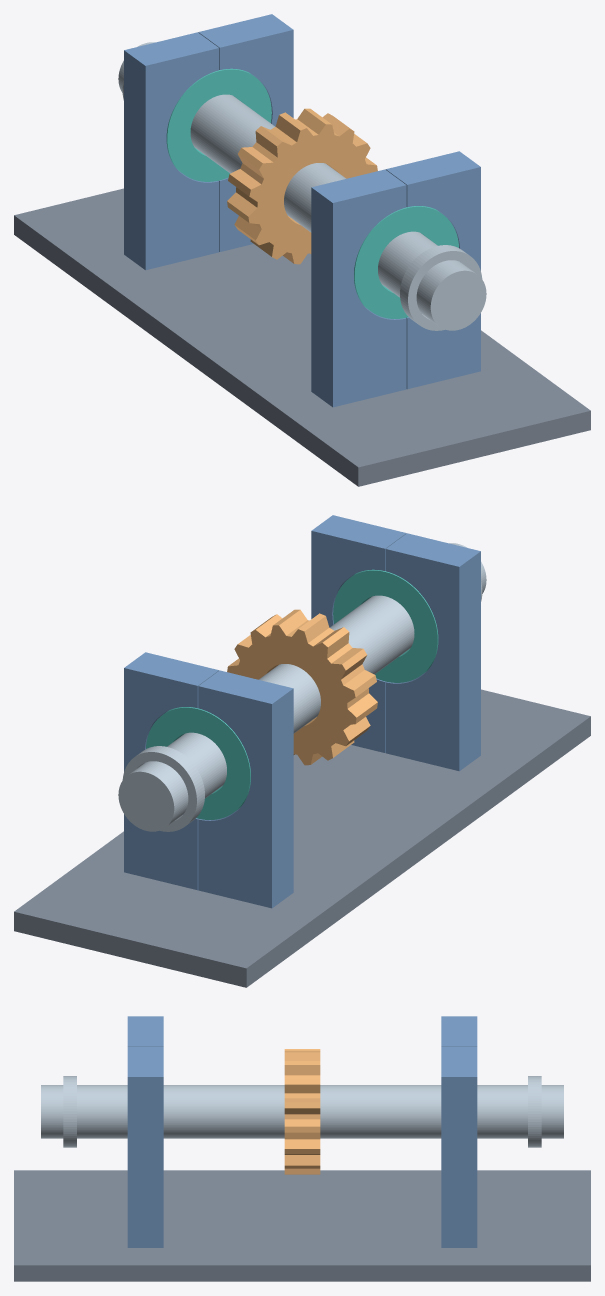
The model's file is assembly.glb.
3 renders of one model, top to bottom at view 1: azimuth 30°, elevation 25°; view 2: azimuth 150°, elevation 25°; view 3: azimuth 270°, elevation 25°, orthographic. The views are drawn at different scales.
Parts seen in each view (by area): view 1: base, rear_housing_left, front_housing_left, shaft, gear, rear_housing_right, front_housing_right, front_bearing, rear_bearing, rear_retainer; view 2: base, front_housing_left, rear_housing_left, shaft, gear, front_housing_right, rear_housing_right, rear_bearing, front_bearing, front_retainer; view 3: base, shaft, front_housing_right, rear_housing_right, gear, front_housing_left, rear_housing_left, front_retainer, rear_retainer.
Boxes of the visible parts, x1=… form: base: x1=14, y1=188, x2=590, y2=486; rear_housing_left: x1=311, y1=169, x2=406, y2=407; front_housing_left: x1=124, y1=32, x2=219, y2=270; shaft: x1=118, y1=42, x2=486, y2=330; gear: x1=227, y1=108, x2=377, y2=264; rear_housing_right: x1=385, y1=151, x2=480, y2=389; front_housing_right: x1=198, y1=14, x2=293, y2=251; front_bearing: x1=166, y1=68, x2=271, y2=181; rear_bearing: x1=354, y1=206, x2=458, y2=318; rear_retainer: x1=400, y1=245, x2=482, y2=330; base: x1=14, y1=689, x2=590, y2=987; front_housing_left: x1=198, y1=670, x2=293, y2=908; rear_housing_left: x1=385, y1=533, x2=480, y2=771; shaft: x1=118, y1=543, x2=486, y2=831; gear: x1=227, y1=609, x2=377, y2=765; front_housing_right: x1=124, y1=652, x2=219, y2=890; rear_housing_right: x1=311, y1=515, x2=406, y2=752; rear_bearing: x1=333, y1=569, x2=438, y2=682; front_bearing: x1=146, y1=707, x2=250, y2=819; front_retainer: x1=122, y1=746, x2=204, y2=831; base: x1=14, y1=1170, x2=590, y2=1281; shaft: x1=41, y1=1085, x2=563, y2=1138; front_housing_right: x1=441, y1=1046, x2=477, y2=1247; rear_housing_right: x1=127, y1=1046, x2=163, y2=1247; gear: x1=284, y1=1049, x2=320, y2=1174; front_housing_left: x1=441, y1=1016, x2=477, y2=1046; rear_housing_left: x1=127, y1=1016, x2=163, y2=1046; front_retainer: x1=528, y1=1076, x2=541, y2=1147; rear_retainer: x1=63, y1=1076, x2=76, y2=1147.
Size of the model in its own units: 0.0575 by 0.0529 by 0.1476.
